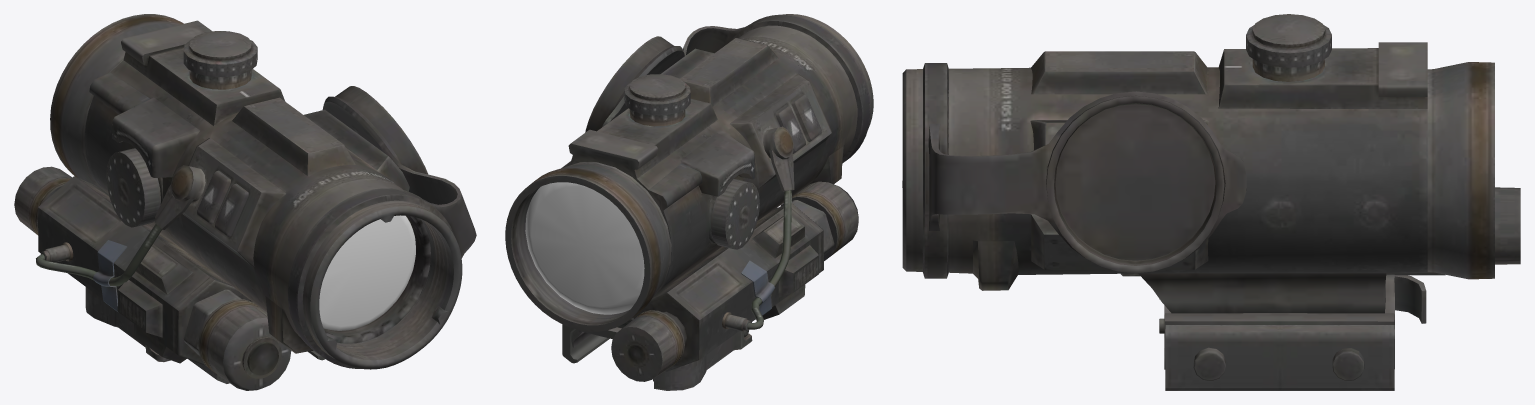
The model's file is apexopt_aog.glb.
3 renders of one model, left to right at view 1: azimuth 30°, elevation 25°; view 2: azimuth 150°, elevation 25°; view 3: azimuth 270°, elevation 25°, orthographic. The views are drawn at different scales.
Visible parts, largest first — view 1: opt__tex_apexopt_aog_0, opt__lens_1; view 2: opt__tex_apexopt_aog_0, opt__lens_1; view 3: opt__tex_apexopt_aog_0.
Boxes of the visible parts, <box> form: opt__tex_apexopt_aog_0: <box>14,14,476,390</box>; opt__lens_1: <box>319,215,415,330</box>; opt__tex_apexopt_aog_0: <box>505,14,873,390</box>; opt__lens_1: <box>525,182,644,314</box>; opt__tex_apexopt_aog_0: <box>902,14,1520,390</box>.
Size of the model in its own units: 0.0745 by 0.0757 by 0.1261.
Materials: 2 (1 with a texture image).
